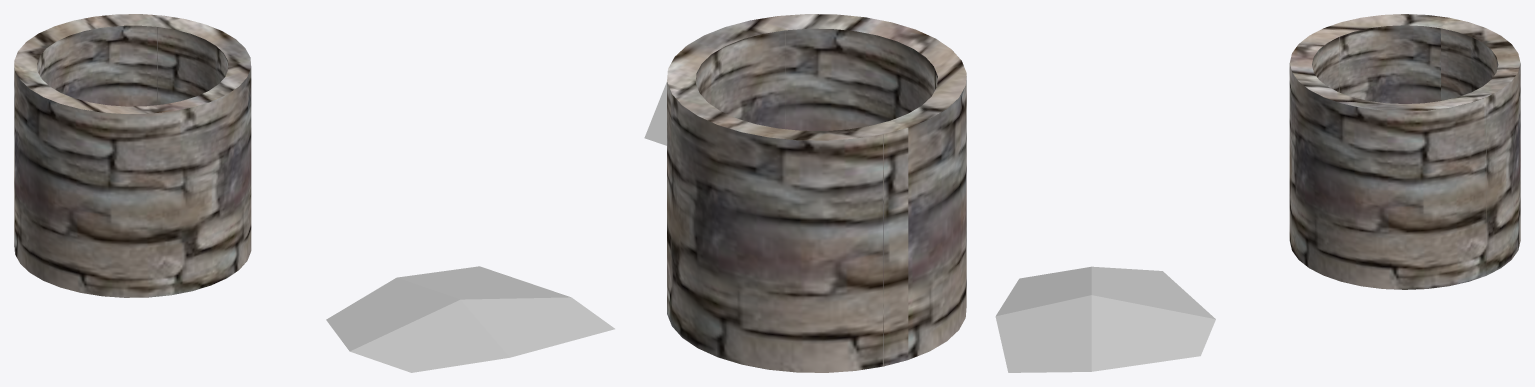
File: Asset Main Building_V2.fbx_Ruang_Cuci.fbx
3 views of the same model, side by side, from view 1: azimuth 30°, elevation 25°; view 2: azimuth 150°, elevation 25°; view 3: azimuth 270°, elevation 25° (orthographic). The views are drawn at different scales.
Visible parts, largest first — view 1: Cylinder.011, Pakaian kotor.001; view 2: Cylinder.011, Pakaian kotor.001; view 3: Cylinder.011, Pakaian kotor.001.
Part boxes in pixels (x1,y1,x2,y2): Cylinder.011: (14,14,251,297); Pakaian kotor.001: (326,266,614,372); Cylinder.011: (667,14,966,372); Pakaian kotor.001: (644,82,666,145); Cylinder.011: (1289,14,1520,289); Pakaian kotor.001: (995,266,1215,372).
Bounding box in the file's own units: 2424 × 1118 × 2974.
